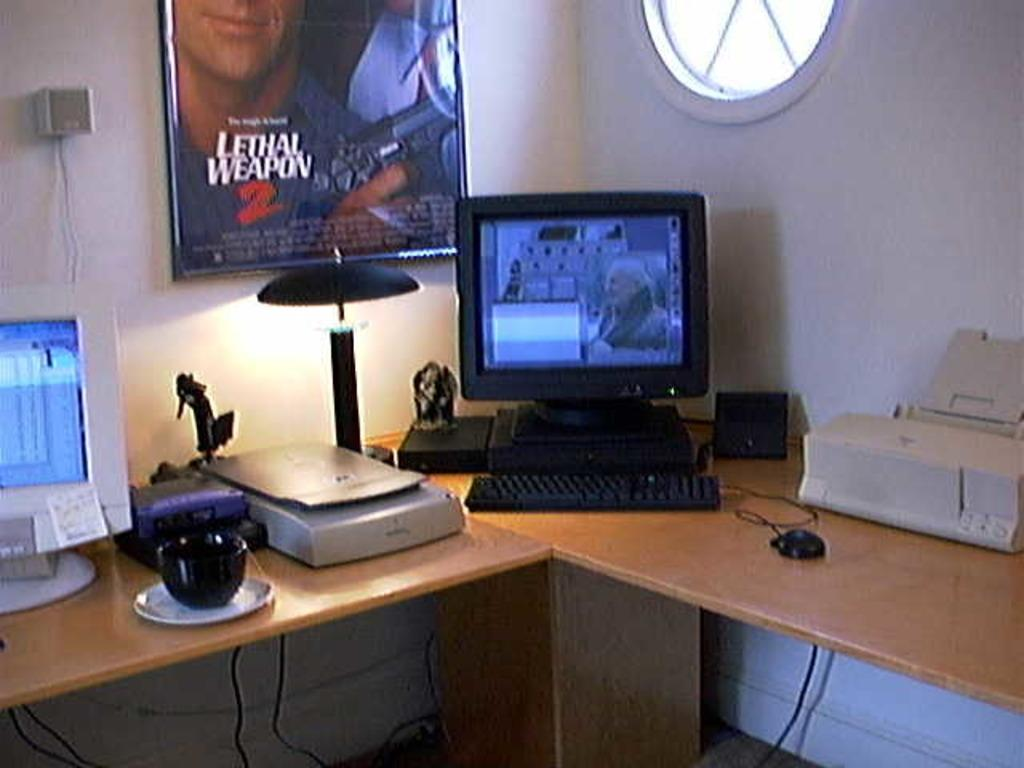Computer-keyboard: (467, 474, 718, 512)
Computer-monitor: (450, 187, 715, 478), (0, 283, 126, 605)
